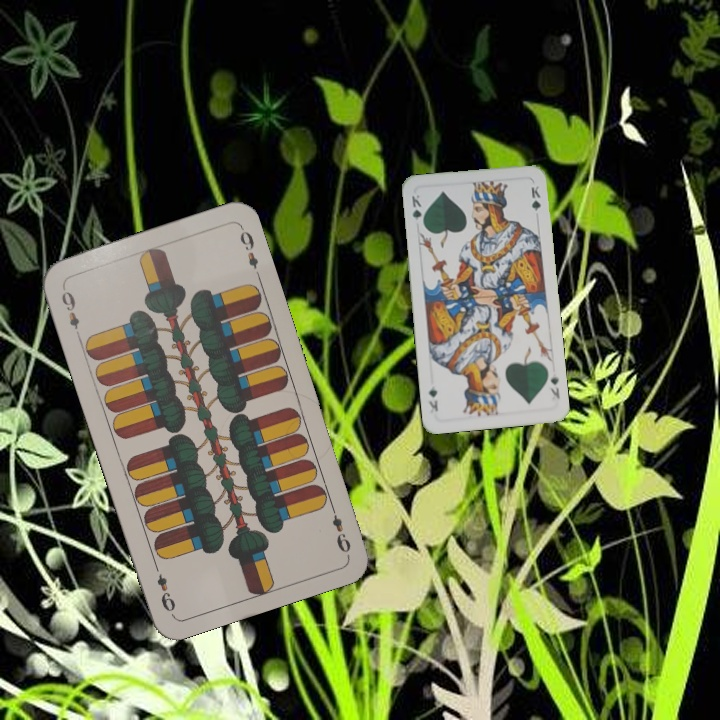E9: (326, 500, 354, 556), (57, 283, 82, 332)
GK: (408, 191, 426, 229), (545, 372, 562, 401)
